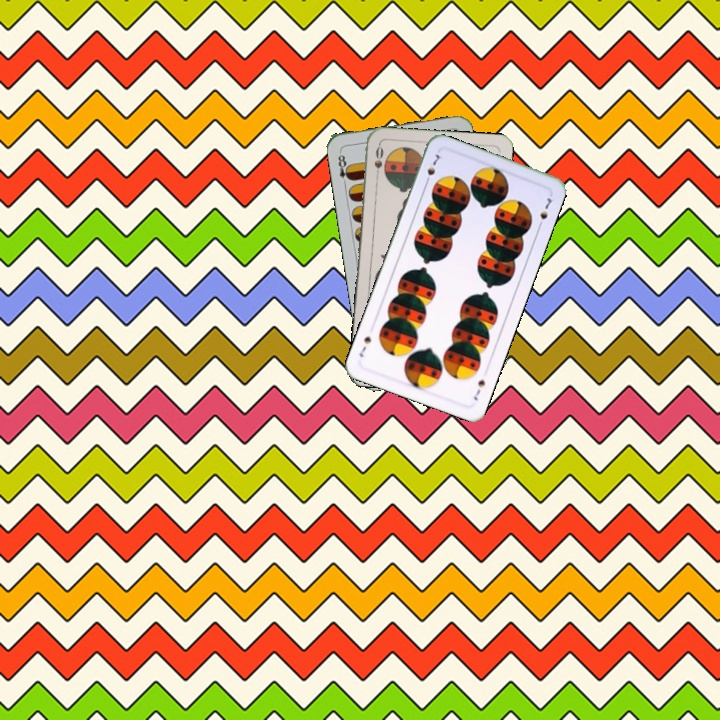E8: (334, 148, 354, 188)
S7: (421, 150, 445, 187), (469, 376, 488, 403)
SO: (370, 141, 386, 182)
